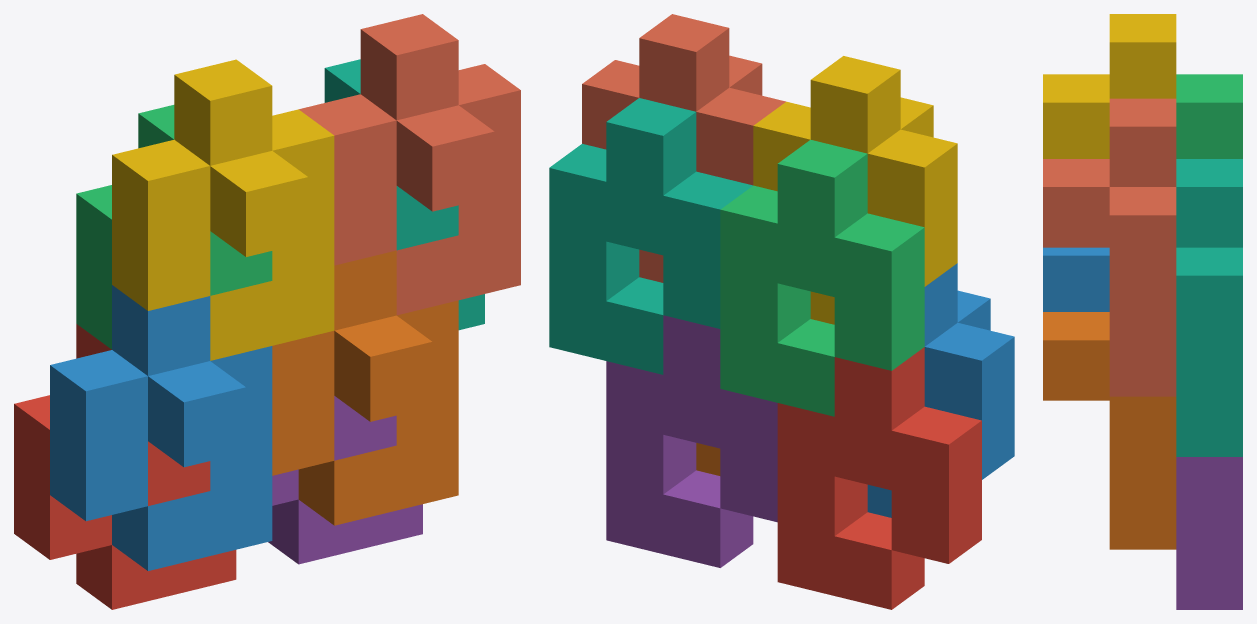
File: tiling.obj
The picture shows the model from 3 angles, left to right: view 1: azimuth 30°, elevation 25°; view 2: azimuth 150°, elevation 25°; view 3: azimuth 270°, elevation 25°; orthographic projection. The views are drawn at different scales.
Visible parts, largest first — view 1: copy_1_domain_4, copy_1_domain_2, copy_1_domain_8, copy_1_domain_6, copy_1_domain_1, copy_1_domain_5, copy_1_domain_3, copy_1_domain_7; view 2: copy_1_domain_3, copy_1_domain_1, copy_1_domain_7, copy_1_domain_5, copy_1_domain_4, copy_1_domain_8, copy_1_domain_2, copy_1_domain_6; view 3: copy_1_domain_8, copy_1_domain_7, copy_1_domain_6, copy_1_domain_4, copy_1_domain_5, copy_1_domain_3, copy_1_domain_2.
Part boxes in pixels (box(x1,y1,x2,y2)): copy_1_domain_4: box(112, 59, 334, 360); copy_1_domain_2: box(50, 285, 272, 570); copy_1_domain_8: box(299, 14, 520, 315); copy_1_domain_6: box(272, 250, 458, 525); copy_1_domain_1: box(14, 324, 236, 609); copy_1_domain_5: box(268, 396, 422, 564); copy_1_domain_3: box(76, 105, 272, 349); copy_1_domain_7: box(324, 59, 484, 330); copy_1_domain_3: box(720, 139, 924, 416); copy_1_domain_1: box(777, 347, 981, 609); copy_1_domain_7: box(549, 98, 752, 374); copy_1_domain_5: box(606, 315, 777, 567); copy_1_domain_4: box(753, 56, 957, 324); copy_1_domain_8: box(582, 14, 785, 282); copy_1_domain_2: box(867, 263, 1014, 517); copy_1_domain_6: box(696, 443, 720, 475); copy_1_domain_8: box(1043, 98, 1176, 396); copy_1_domain_7: box(1176, 159, 1242, 456); copy_1_domain_6: box(1043, 312, 1176, 549); copy_1_domain_4: box(1043, 14, 1176, 158); copy_1_domain_5: box(1176, 457, 1242, 609); copy_1_domain_3: box(1176, 74, 1242, 158); copy_1_domain_2: box(1043, 247, 1109, 311).
Size of the model in its own units: 7 by 8 by 3.
